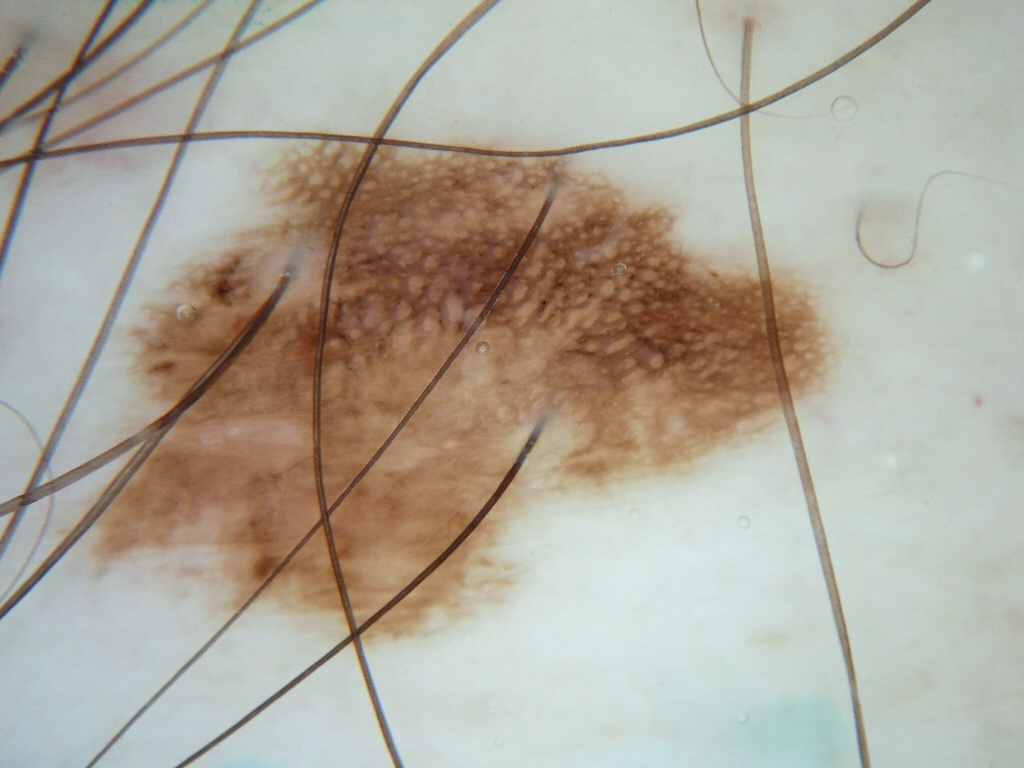Detected Lesion: (83, 132, 839, 648)
